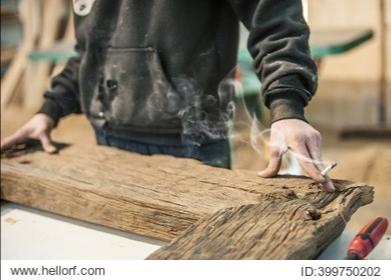Cigarette: (320, 161, 337, 177)
Smoke: (176, 88, 316, 181)
